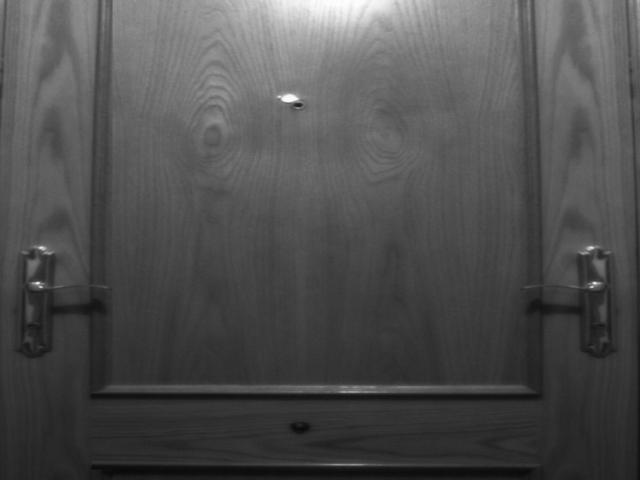Door-handle: (516, 244, 622, 360), (16, 243, 110, 358)
